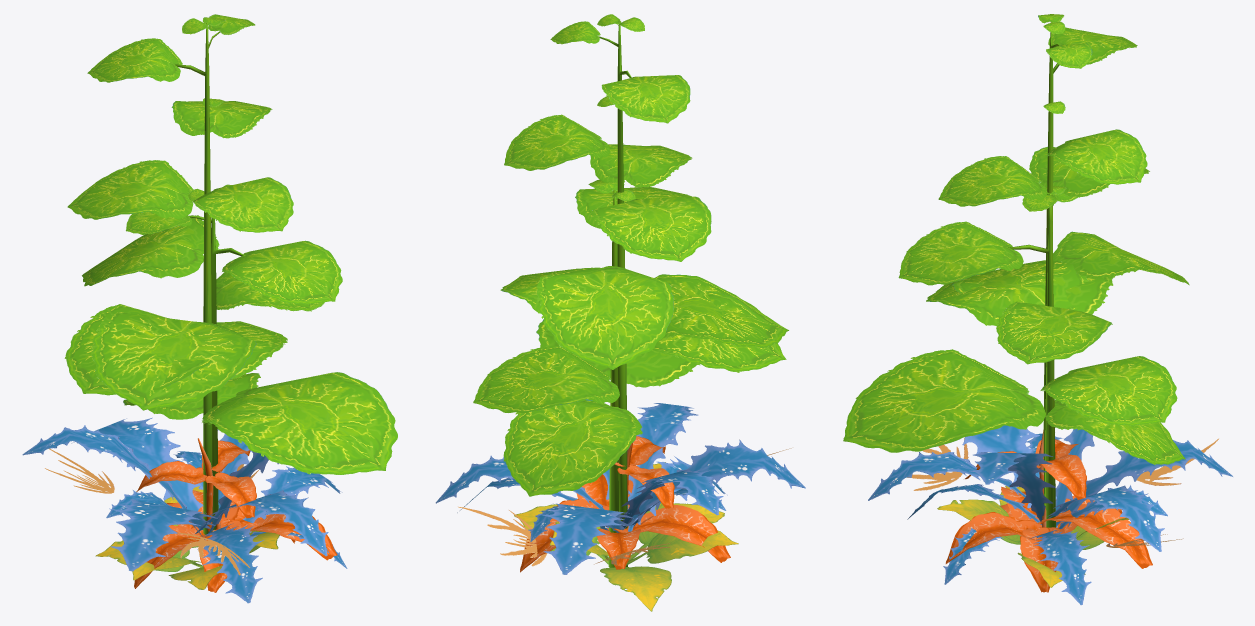
The model's file is vegetaion concept.fbx.
3 views of the same model, side by side, from view 1: azimuth 30°, elevation 25°; view 2: azimuth 150°, elevation 25°; view 3: azimuth 270°, elevation 25° (orthographic).
Parts seen in each view (by area): view 1: Plant 6, Plant 3, Plant 2, Plant 5, Plant 1, Plant 4; view 2: Plant 6, Plant 3, Plant 2, Plant 5, Plant 1, Plant 4; view 3: Plant 3, Plant 6, Plant 2, Plant 5, Plant 1, Plant 4.
Boxes of the visible parts, x1,y1,x2,y2 form: Plant 6: (67,14,324,534); Plant 3: (64,184,397,529); Plant 2: (22,417,347,603); Plant 5: (134,438,337,588); Plant 1: (95,486,279,589); Plant 4: (166,502,295,592); Plant 6: (500,14,788,566); Plant 3: (473,179,786,567); Plant 2: (435,399,805,574); Plant 5: (520,436,730,572); Plant 1: (514,462,738,611); Plant 4: (597,505,657,569); Plant 3: (843,186,1177,527); Plant 6: (926,14,1189,516); Plant 2: (868,425,1232,605); Plant 5: (945,430,1152,568); Plant 1: (937,486,1129,587); Plant 4: (1000,495,1122,592).
Size of the model in its own units: 31.67 by 55.67 by 36.72.
